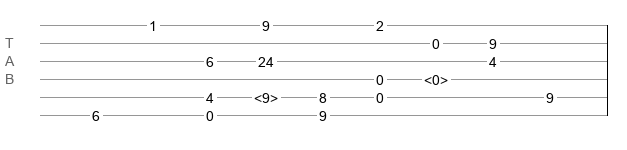0: (206, 108, 214, 118), (376, 72, 384, 82), (376, 90, 384, 100), (432, 36, 440, 46)
1: (149, 18, 157, 28)
2: (376, 18, 384, 28)
24: (258, 54, 274, 64)
4: (206, 90, 214, 100), (489, 54, 497, 64)
6: (92, 108, 100, 118), (206, 54, 214, 64)
8: (319, 90, 327, 100)
9: (262, 18, 270, 28), (319, 108, 327, 118), (489, 36, 497, 46), (546, 90, 554, 100)
harmonic: (254, 90, 278, 100), (424, 72, 448, 82)
